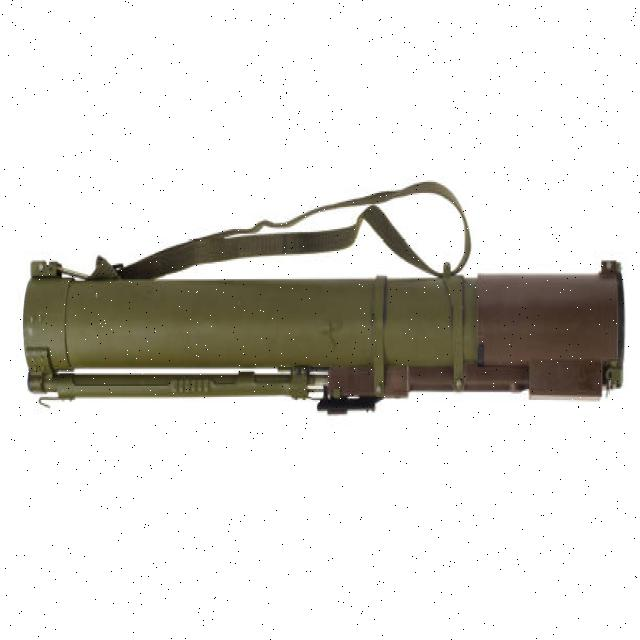bazooka: (17, 255, 633, 426)
